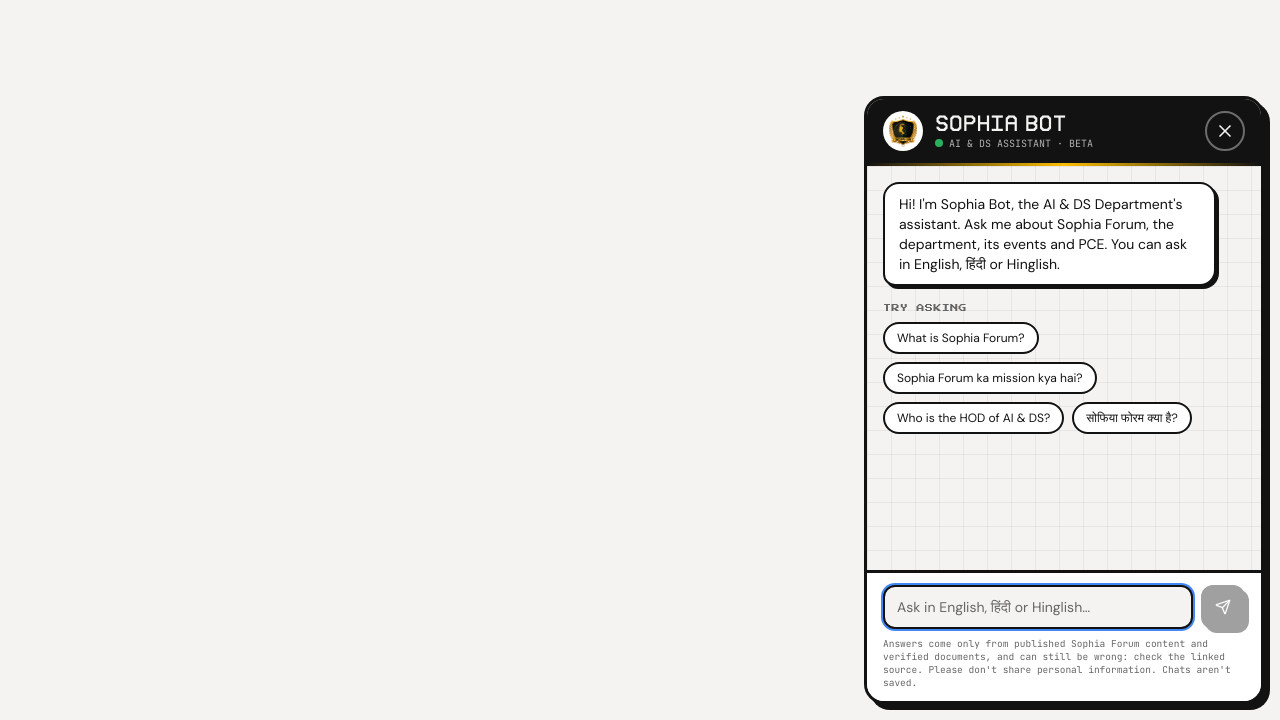
Test: chat panel › stores nothing in the browser
Type "hi" into the text box named "Your question" at (1038, 607), box [883,585,1193,629]
Then press Enter
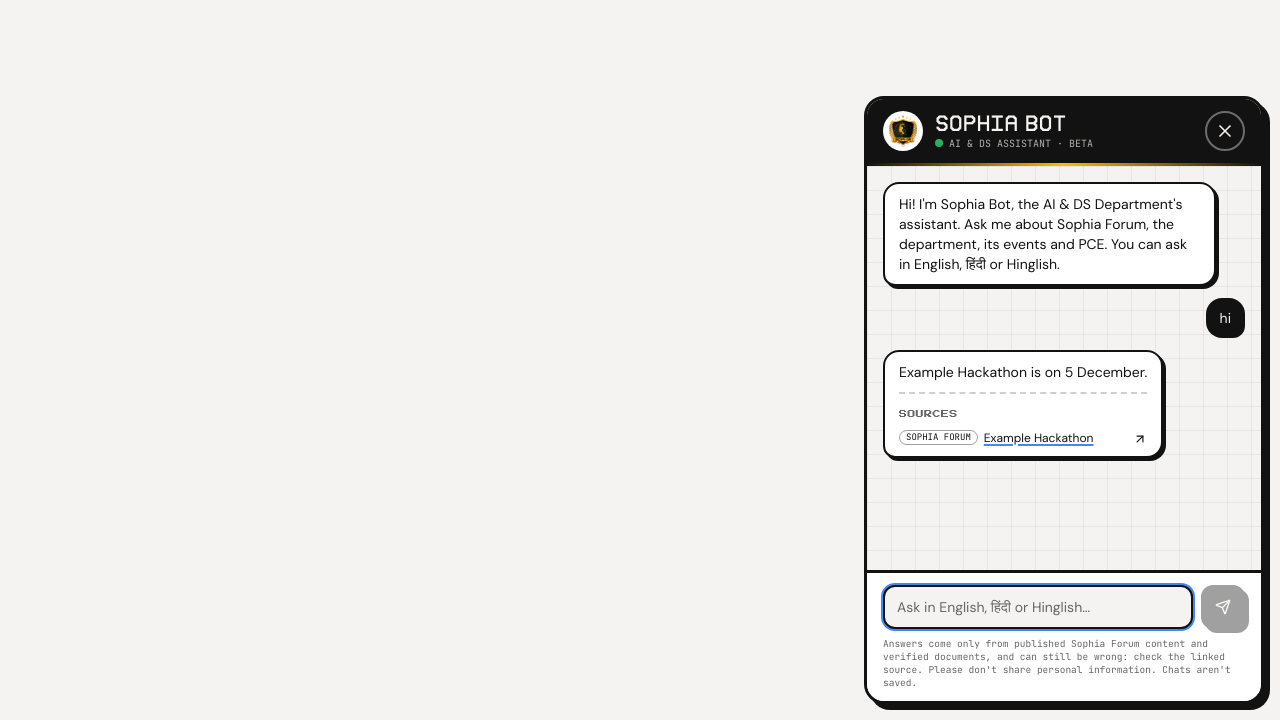
Expected: the text "Example Hackathon is on 5 December." is shown, [899,362,1147,382]
